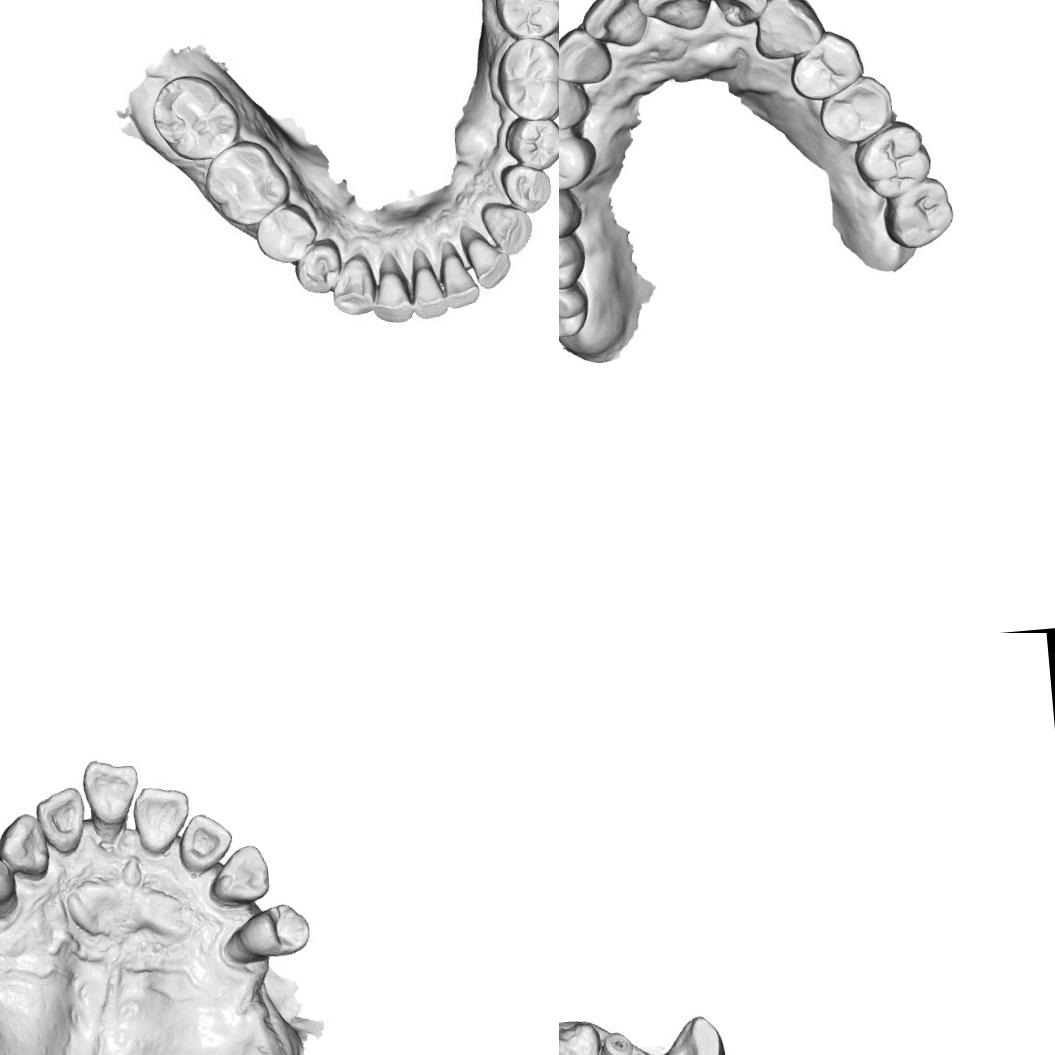canine: (748, 0, 826, 62), (204, 842, 272, 908), (0, 810, 52, 882), (478, 198, 538, 259), (654, 1012, 728, 1055), (330, 256, 375, 318), (559, 64, 591, 135)
implant_minus: (595, 1028, 633, 1055)
incisor: (129, 782, 193, 856), (80, 755, 142, 829), (173, 810, 235, 877), (33, 786, 88, 856), (574, 0, 649, 50), (559, 22, 615, 88), (366, 254, 414, 326), (633, 0, 715, 37), (460, 234, 514, 290), (433, 249, 480, 312), (410, 252, 448, 322), (705, 0, 768, 29)
molar: (146, 71, 242, 166), (198, 136, 292, 230), (846, 118, 934, 202), (878, 176, 958, 252), (493, 32, 559, 124), (490, 0, 559, 43), (559, 279, 590, 343), (559, 228, 587, 292)
premolar: (219, 900, 312, 967), (815, 71, 897, 145), (787, 27, 864, 102), (252, 202, 319, 264), (495, 159, 556, 216), (501, 111, 559, 170), (291, 235, 345, 297), (559, 129, 598, 192), (0, 846, 20, 924), (559, 177, 582, 242)
